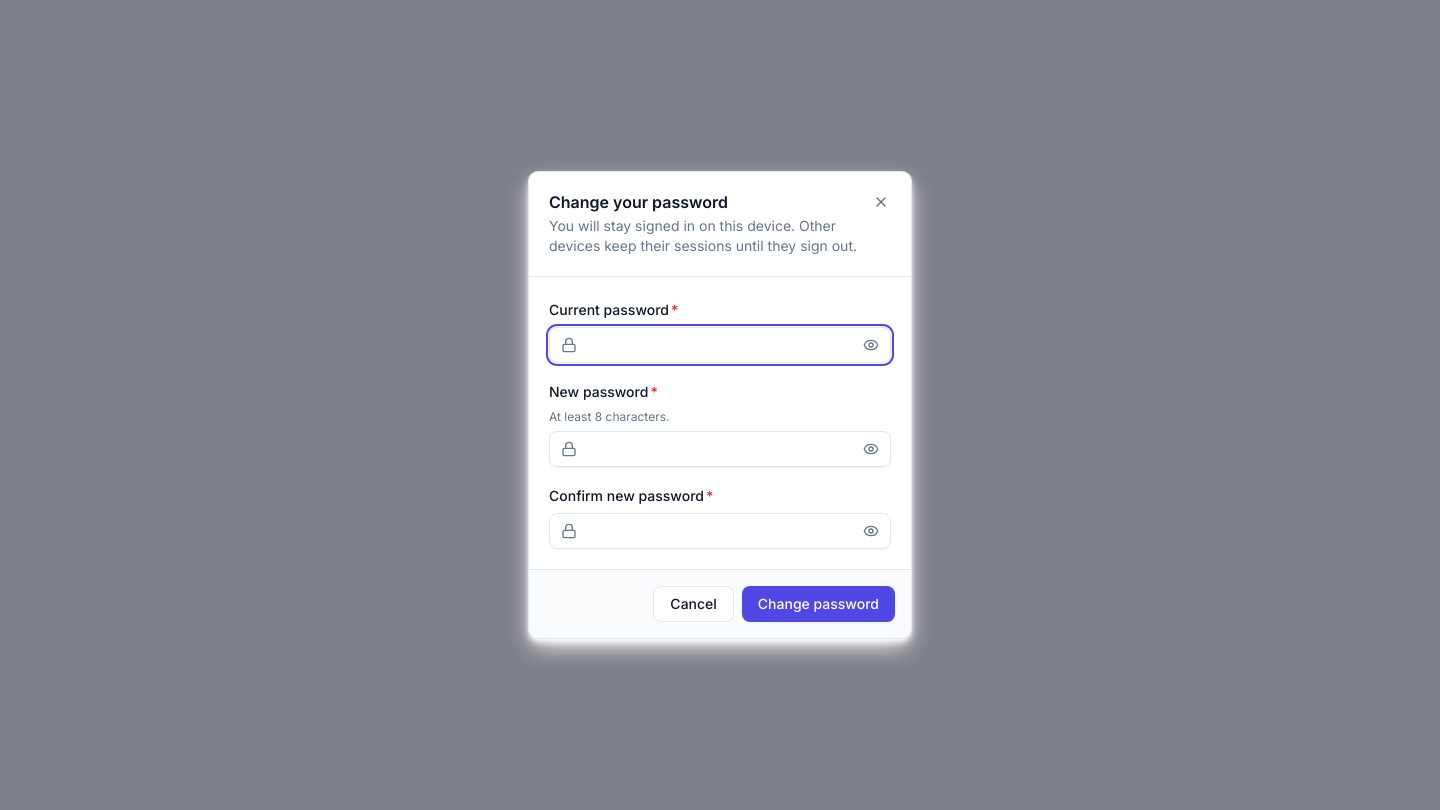
Scenario: ChangePasswordDialog › refuses a new password that is the one already in use
In the password field labelled "Current password*": (720, 345) [549, 327, 891, 363], type "a-longer-phrase-2026"
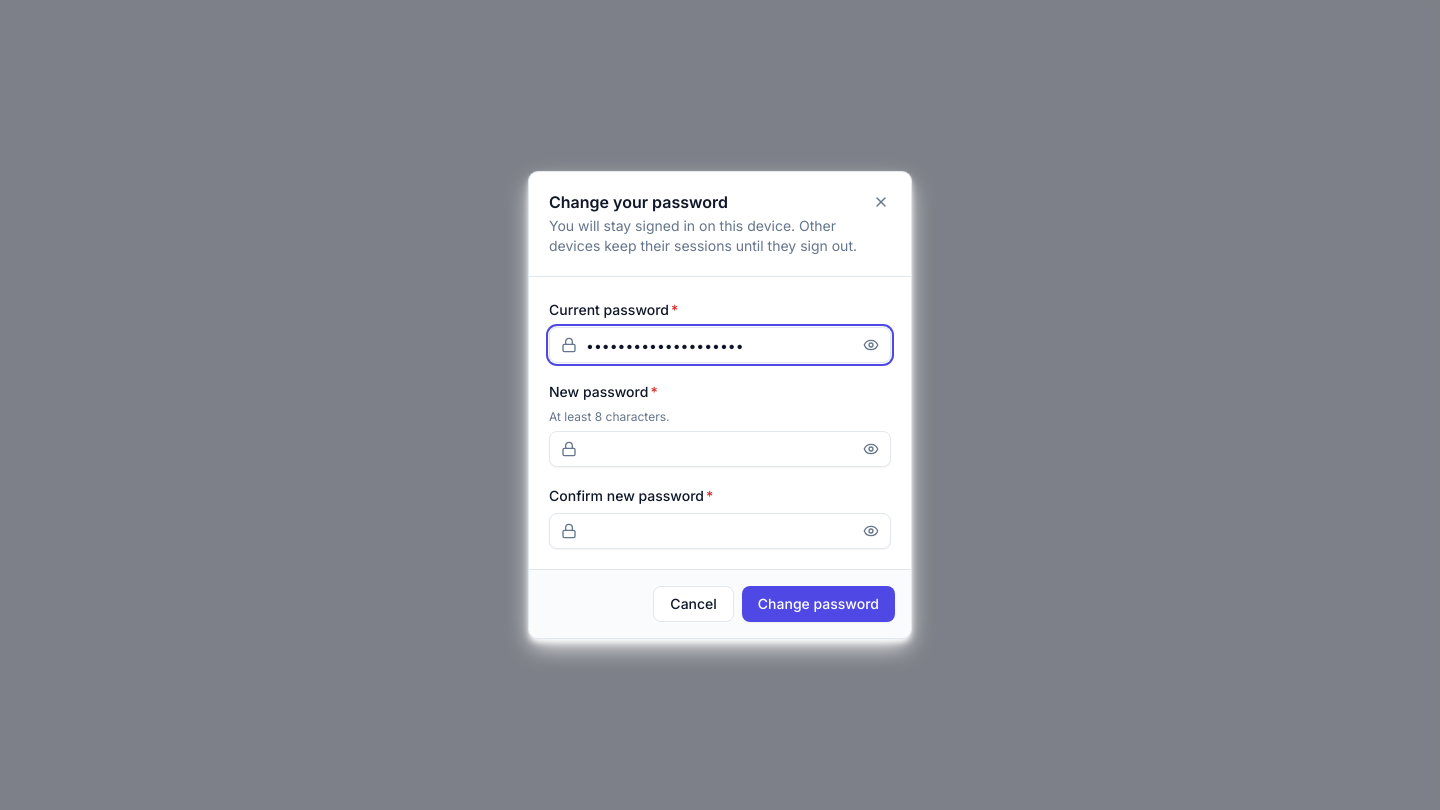
In the password field labelled "New password*": (720, 449) [549, 431, 891, 467], type "a-longer-phrase-2026"
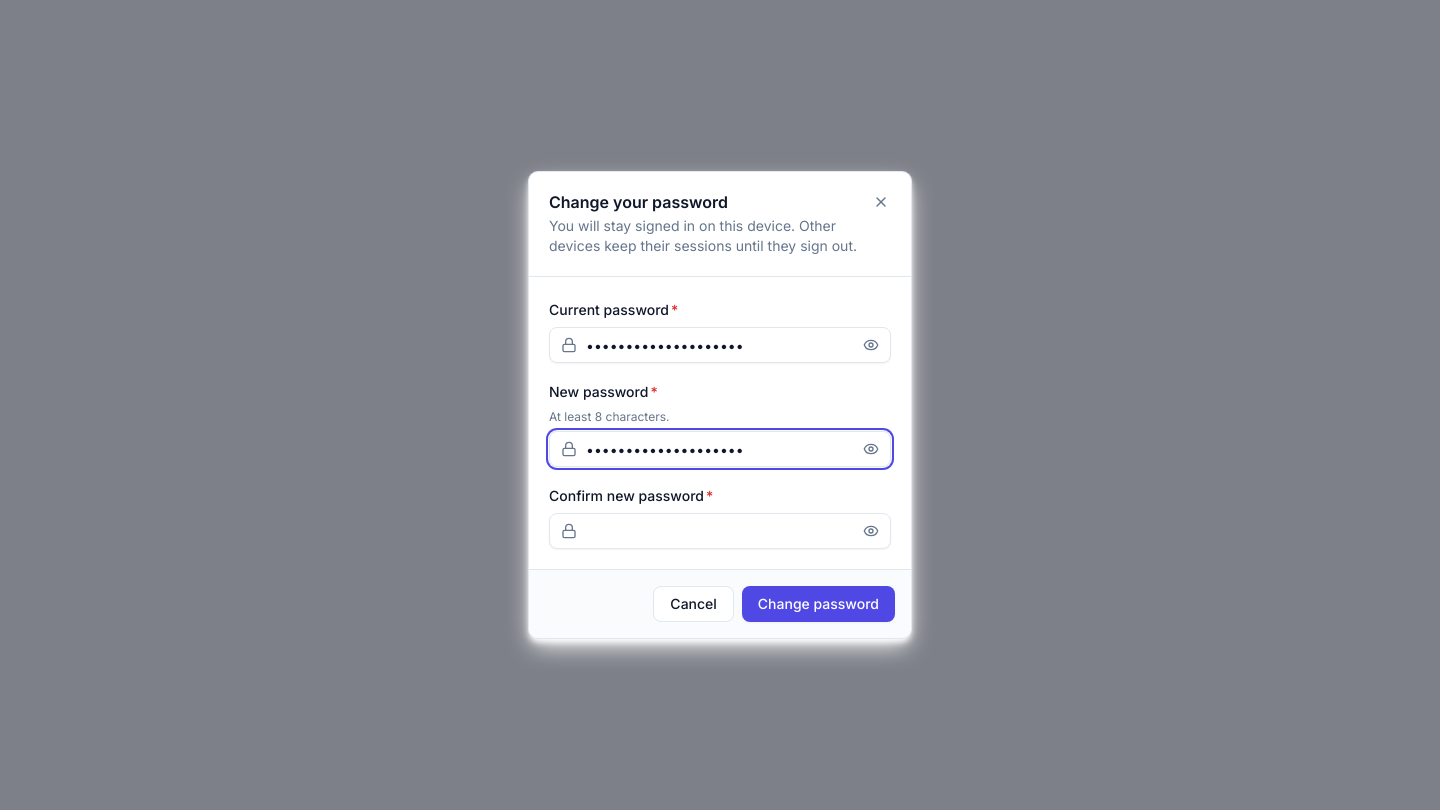
In the password field labelled "Confirm new password*": (720, 531) [549, 513, 891, 549], type "a-longer-phrase-2026"
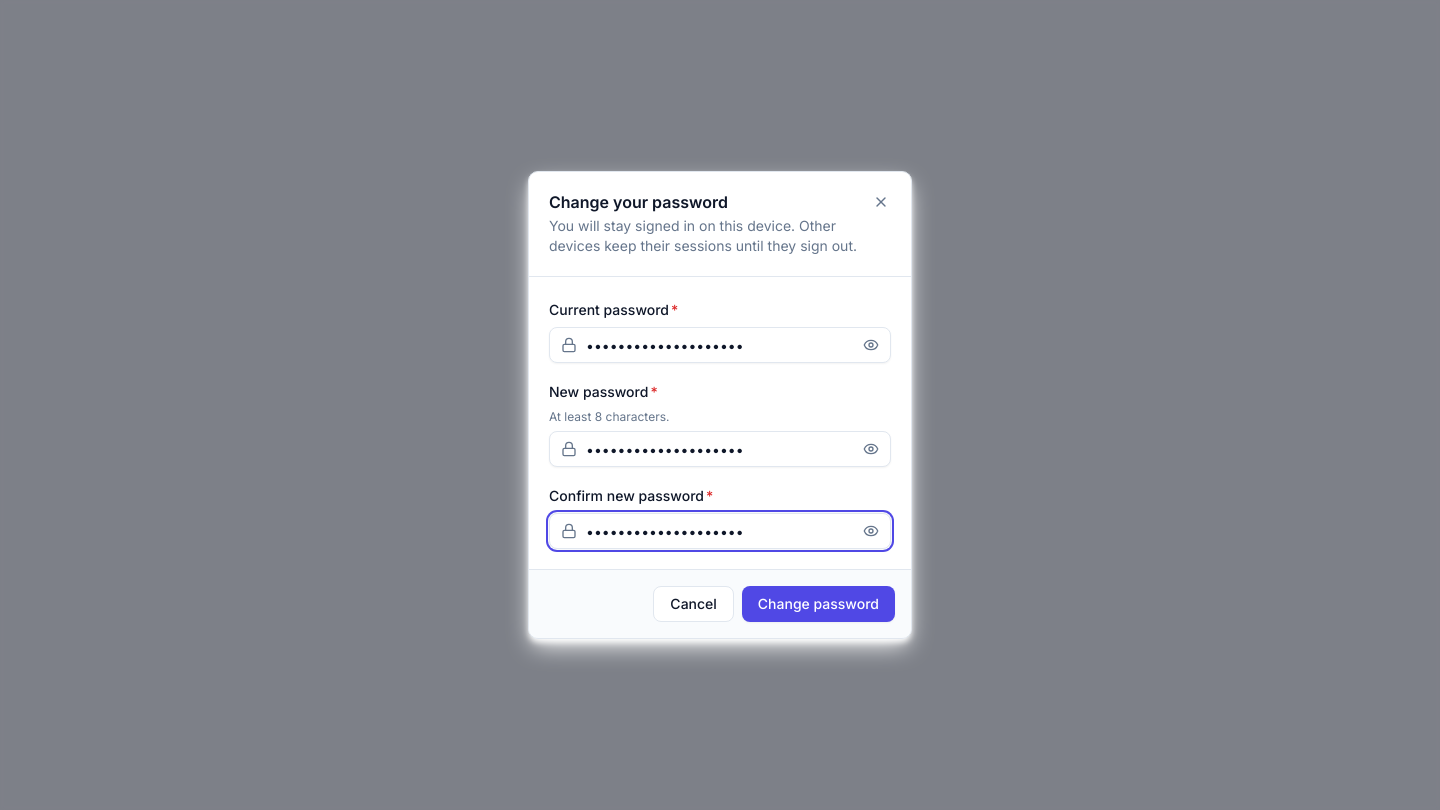
Click the button "Change password": (818, 604) [742, 586, 895, 622]
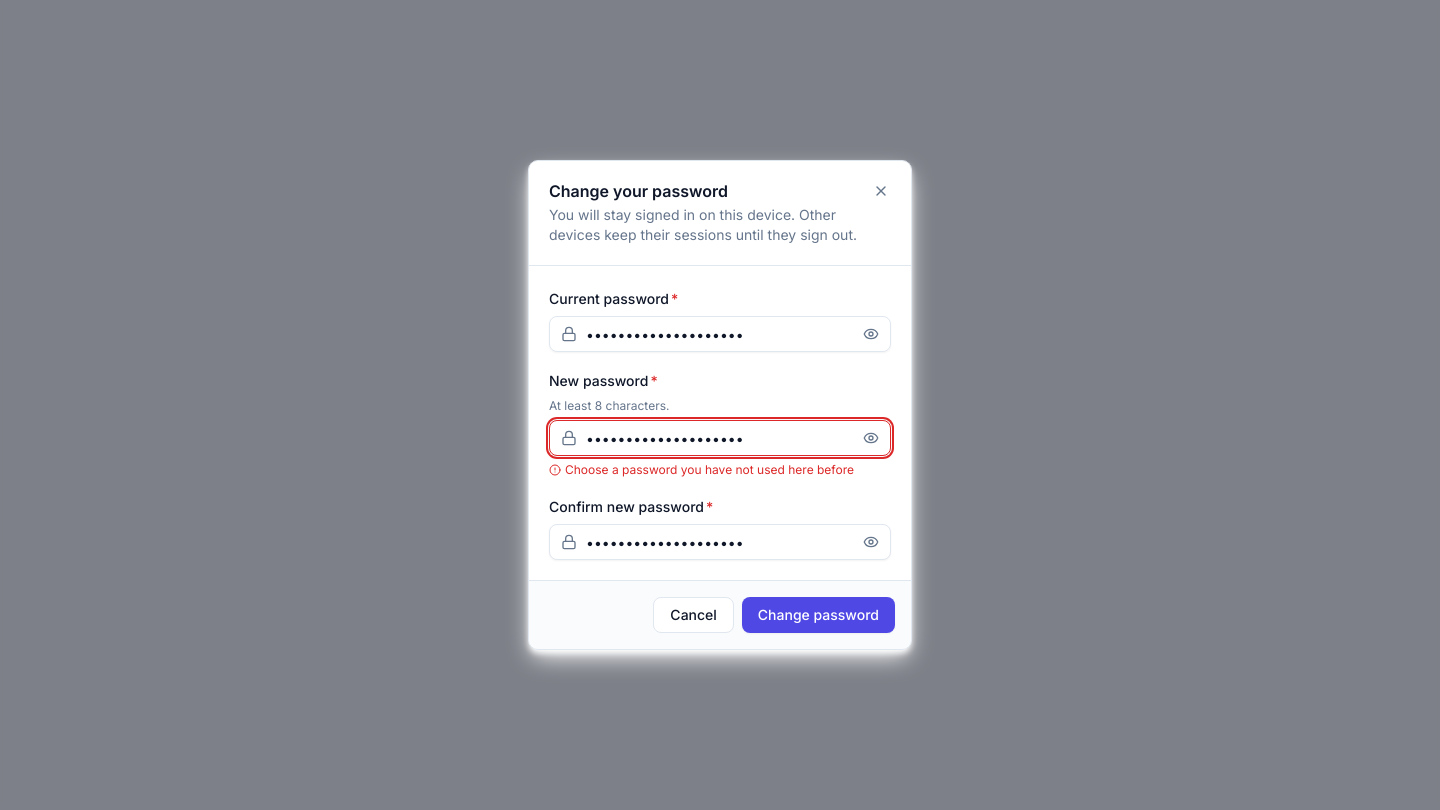
Expected: the text "Choose a password you have not used here before" is shown, [549, 462, 891, 478]
